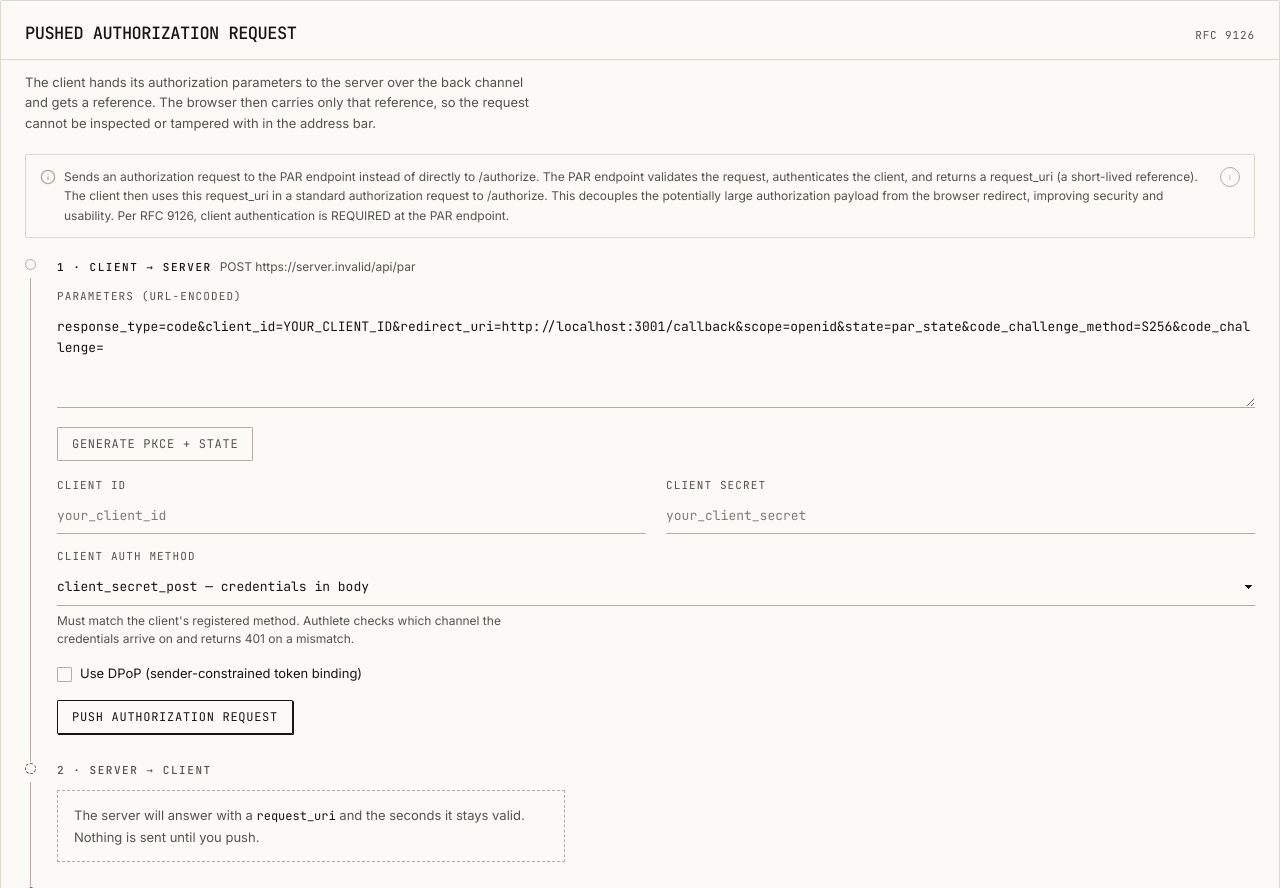
Test: ParSection — the response it reads back › offers the authorize controls only once a request_uri actually came back
Type "1523514379" into the field labelled "Client ID" at (352, 516), box [57, 499, 646, 534]
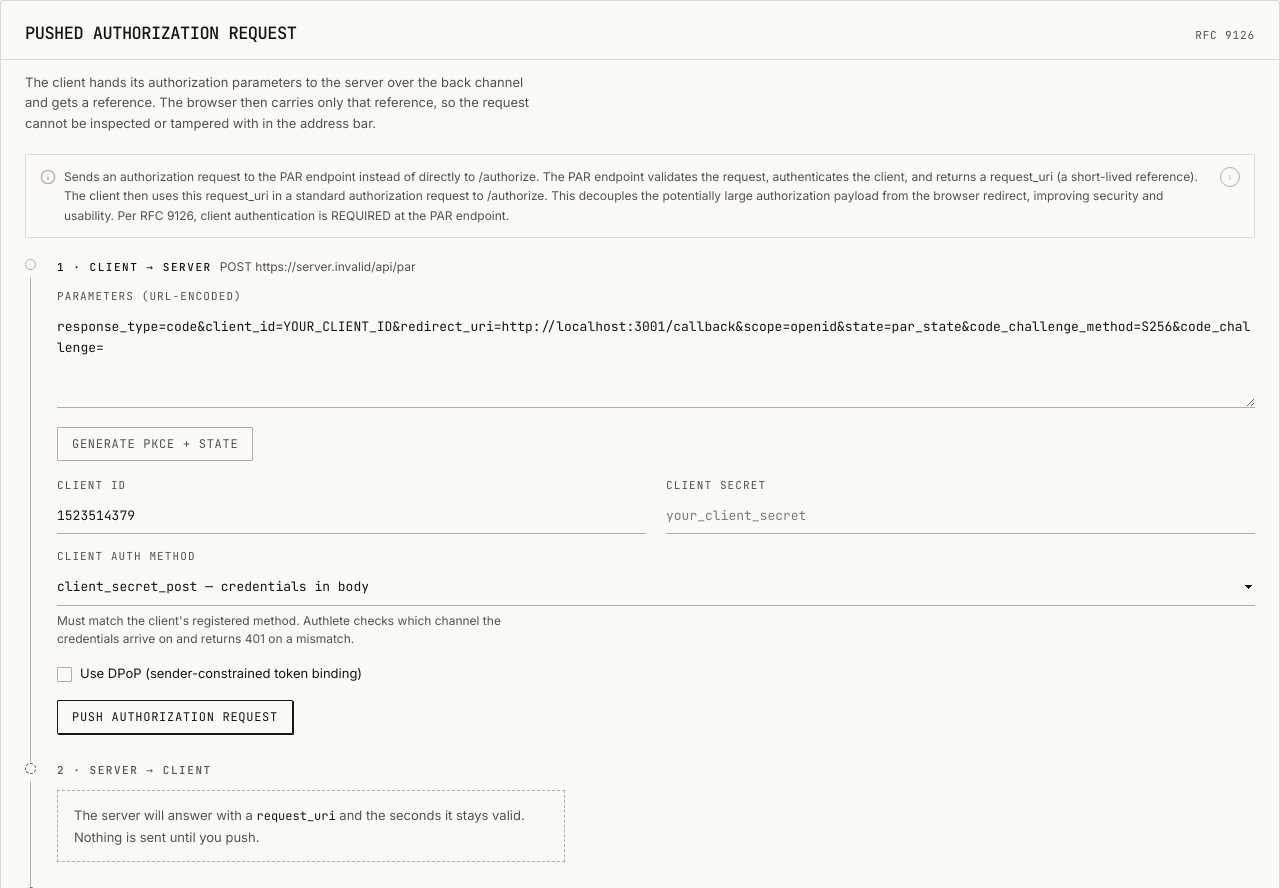
Click the button "Push Authorization Request" at (175, 717), box [57, 700, 293, 734]
(page scrolled)
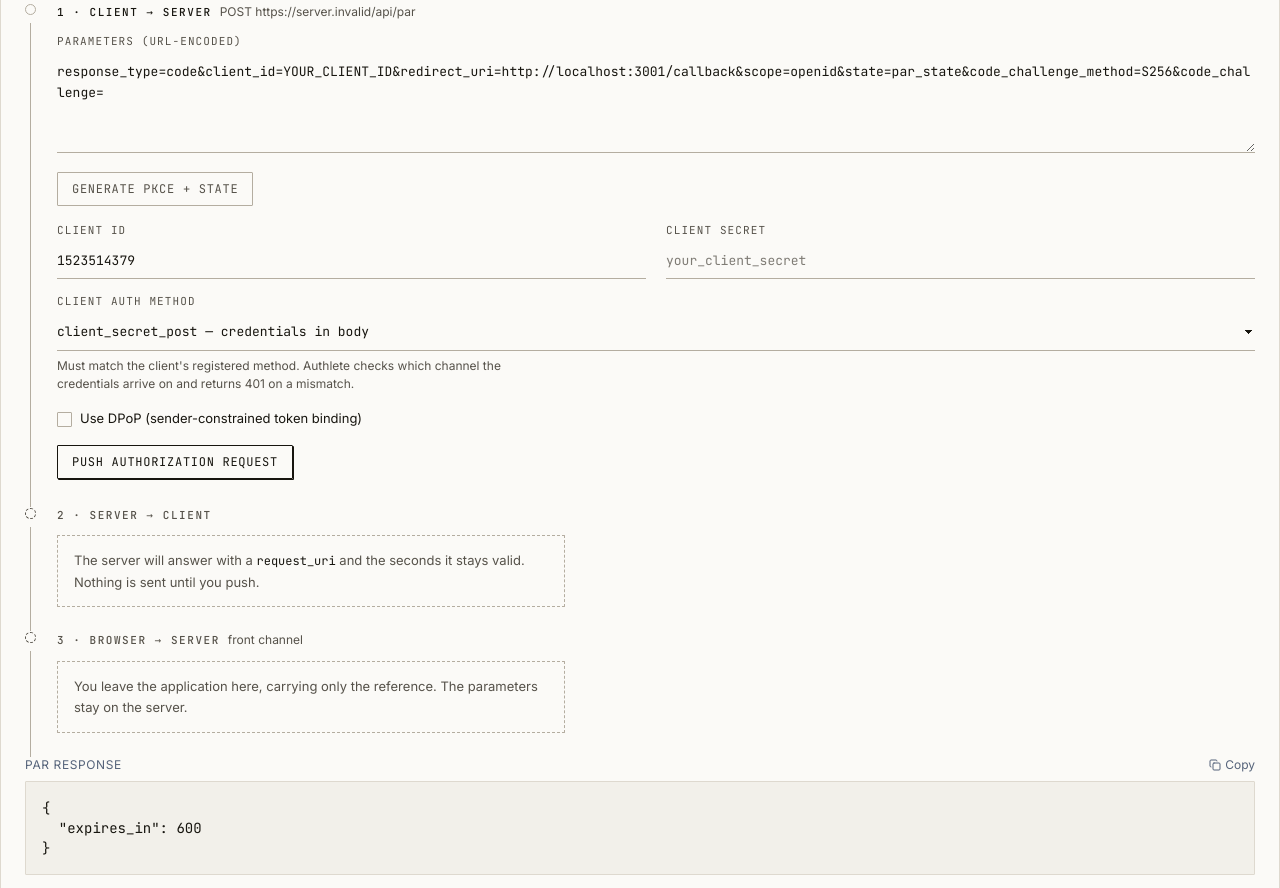
Check: the text "PAR Response" is shown, box [25, 757, 122, 773]
